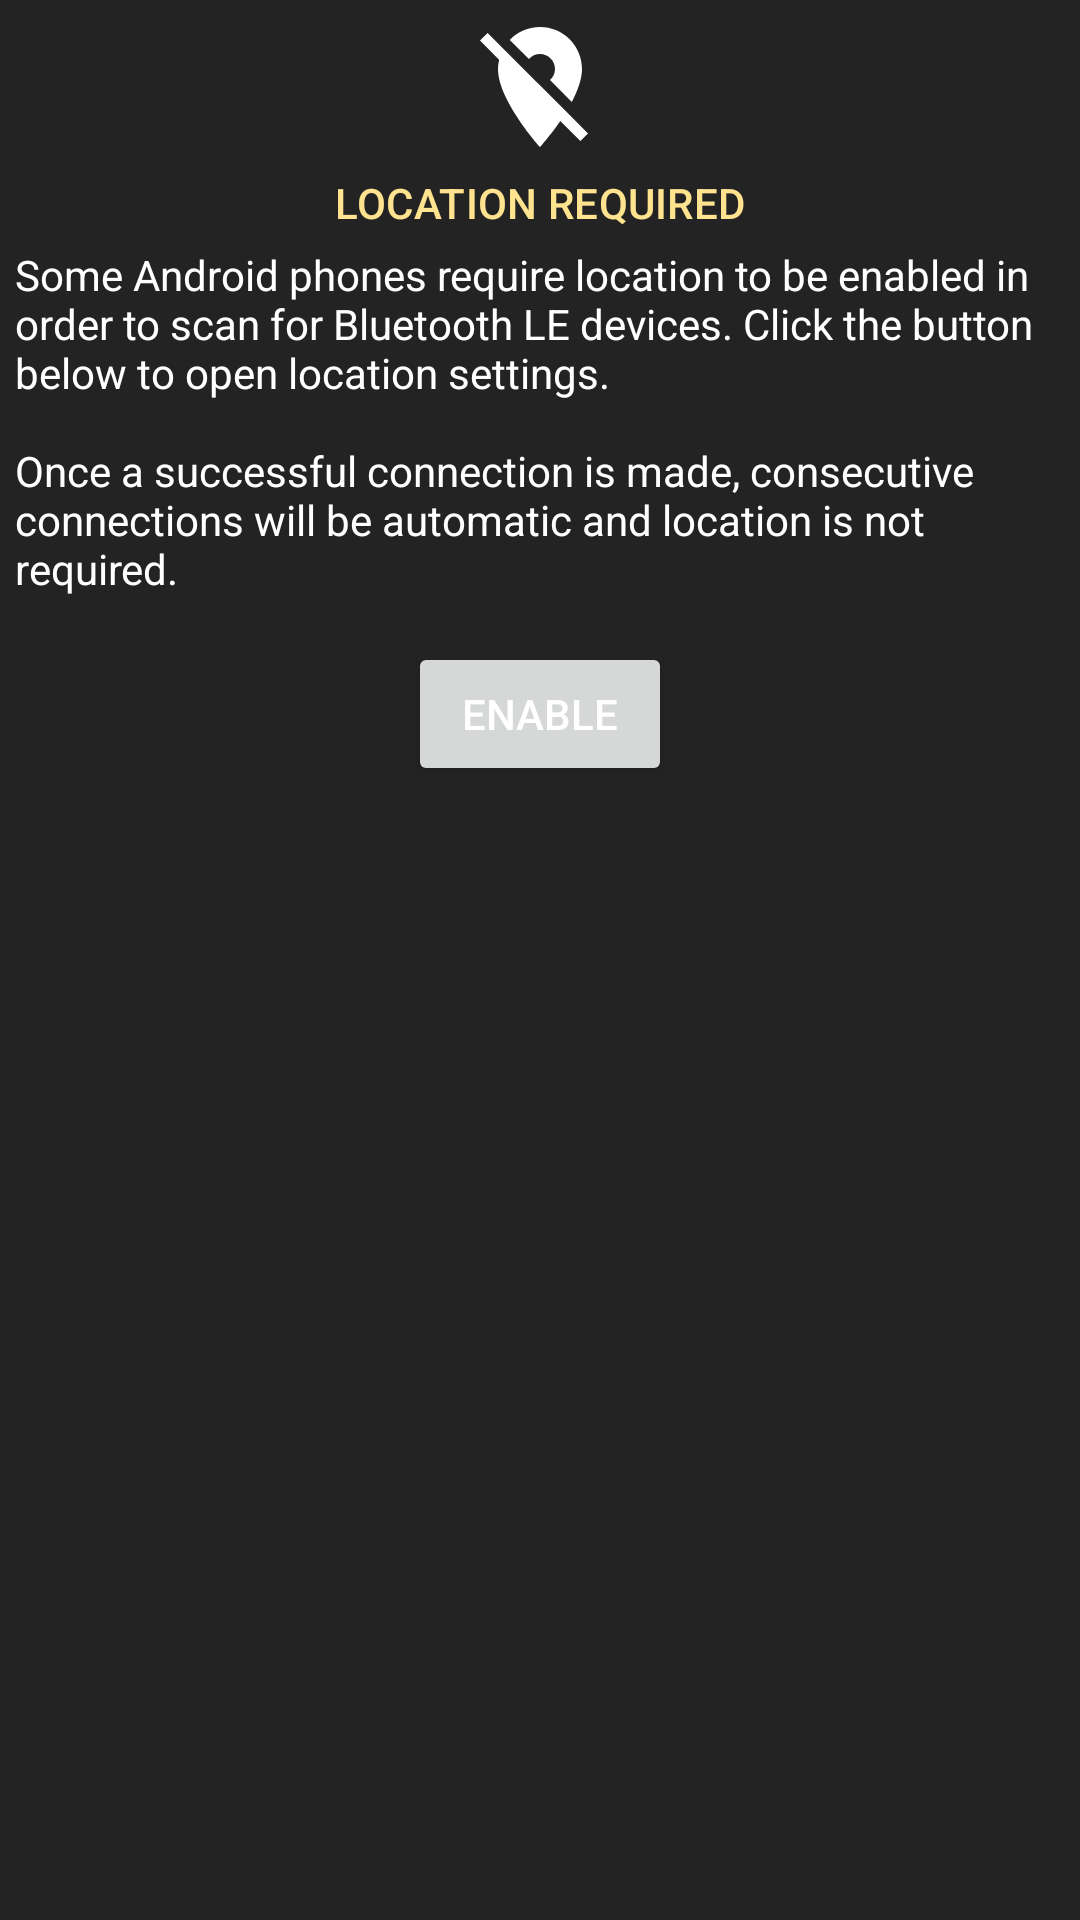

Where icons sit on this 1080x1920 app screen, as [left=x1, top=y1, right=x2, bottom=y2]:
location off: [left=480, top=27, right=588, bottom=147]
